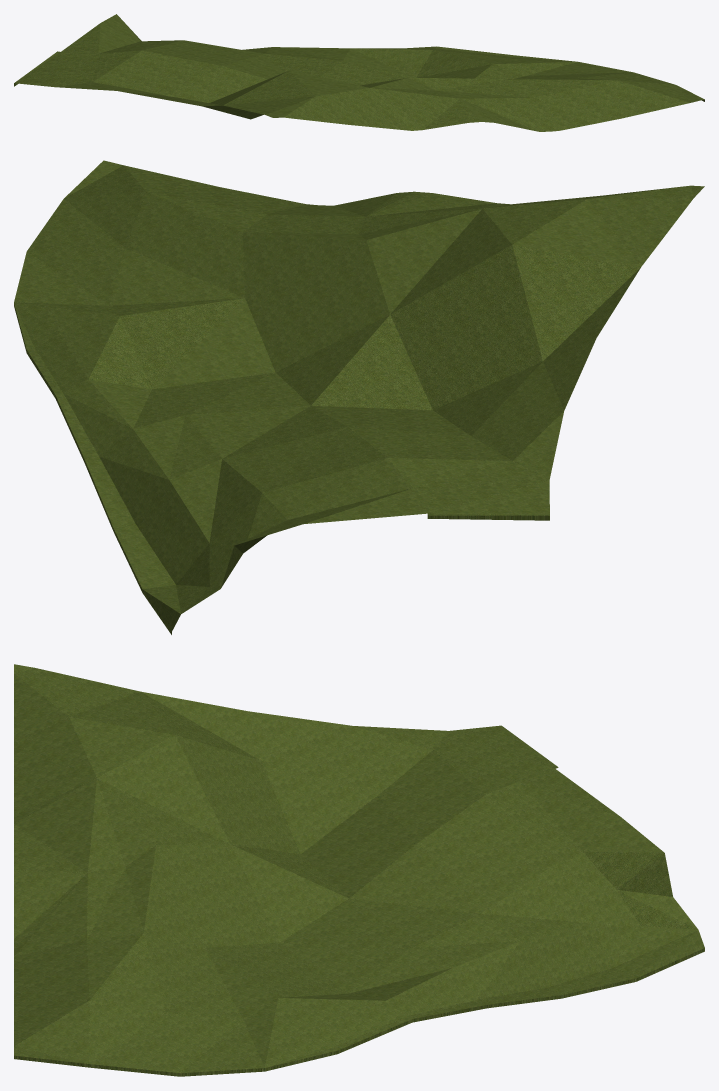
Rendered from land_01_sfw.obj.
The picture shows the model from 3 angles, top to bottom: view 1: azimuth 30°, elevation 25°; view 2: azimuth 150°, elevation 25°; view 3: azimuth 270°, elevation 25°; orthographic projection. The views are drawn at different scales.
Parts seen in each view (by area): view 1: land_01_sfw; view 2: land_01_sfw; view 3: land_01_sfw.
Boxes of the visible parts, x1,y1,x2,y2 form: land_01_sfw: (14,14,704,131); land_01_sfw: (14,160,704,634); land_01_sfw: (14,664,704,1076).
Size of the model in its own units: 145 by 43.87 by 131.
Materials: 1 (1 with a texture image).
